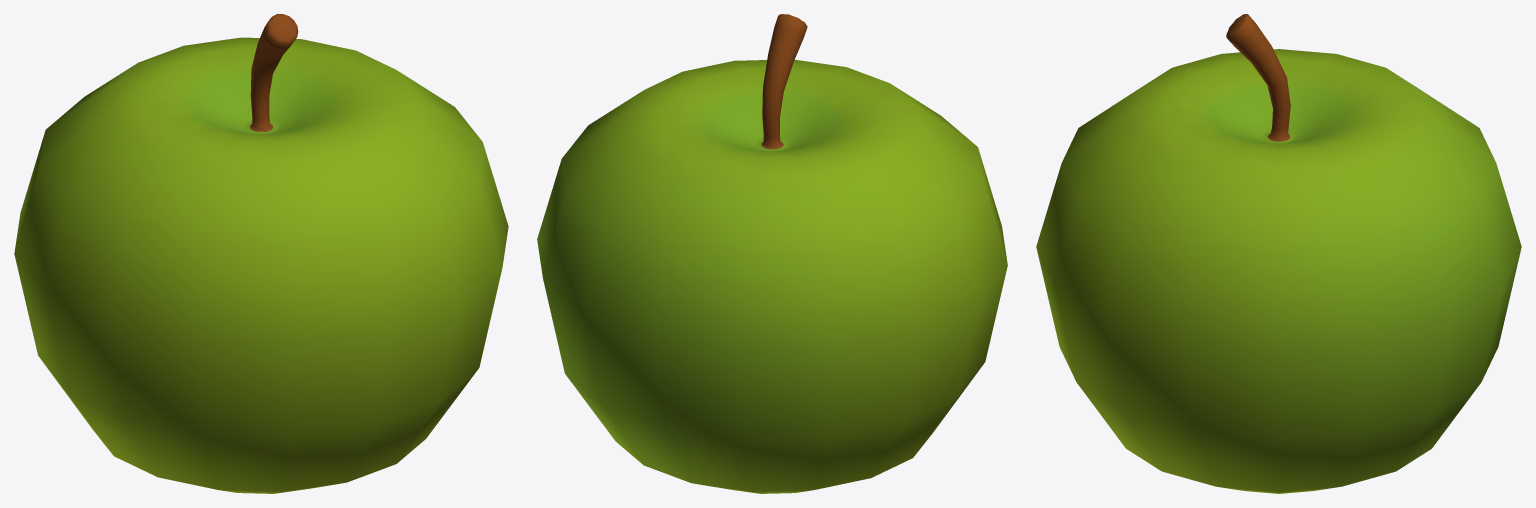
File: GreenApple.fbx
3 views of the same model, side by side, from view 1: azimuth 30°, elevation 25°; view 2: azimuth 150°, elevation 25°; view 3: azimuth 270°, elevation 25° (orthographic). The views are drawn at different scales.
Parts seen in each view (by area): view 1: GreenApple; view 2: GreenApple; view 3: GreenApple.
Boxes of the visible parts, left/top/right/bottom form: GreenApple: left=14, top=14, right=508, bottom=493; GreenApple: left=537, top=14, right=1007, bottom=493; GreenApple: left=1036, top=14, right=1521, bottom=493.
Size of the model in its own units: 256 by 256 by 256.
Materials: 1 (1 with a texture image).
